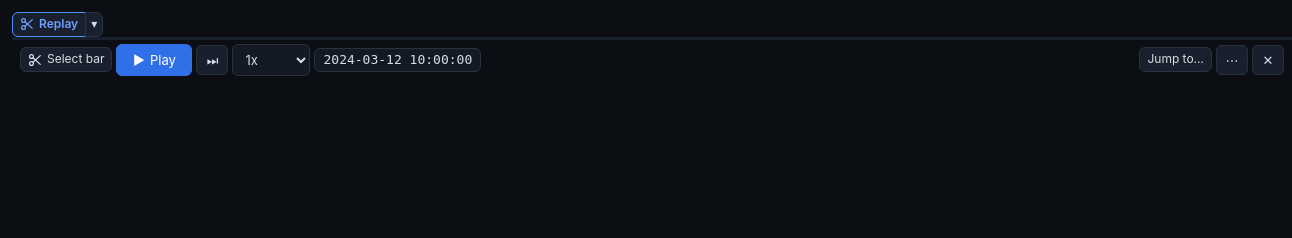
Scenario: the replay controls › give focus to the toolbar’s Replay button after Exit and after the menu’s Select bar, not to the page
Later steps or results of the test are not shown.
Click the button with class "replay-more". click: {"x": 94, "y": 24}
box: [85,12,103,37]
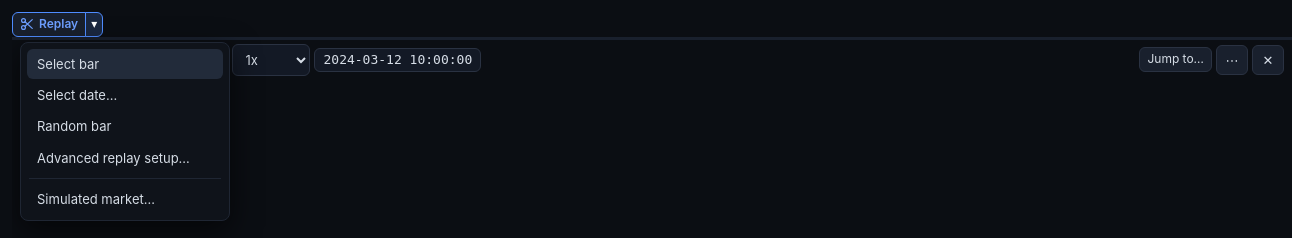
Click the menu item "Select bar". click: {"x": 125, "y": 64}
box: [27,49,223,79]
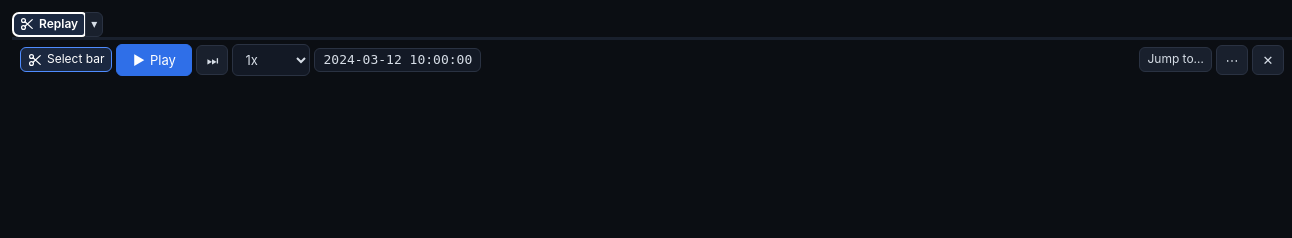
Expected: the button with class "replay-btn" is pressed, [12,12,86,37]
